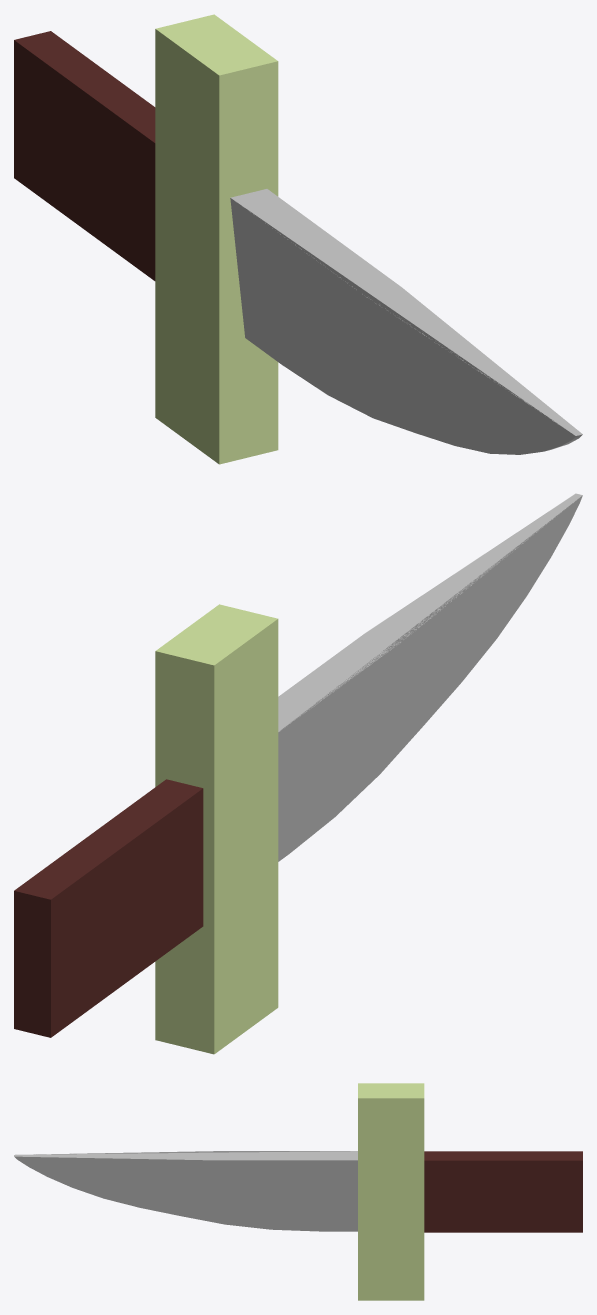
Rendered from Knife.fbx.
The picture shows the model from 3 angles, top to bottom: view 1: azimuth 30°, elevation 25°; view 2: azimuth 150°, elevation 25°; view 3: azimuth 270°, elevation 25°; orthographic projection. The views are drawn at different scales.
Visible parts, largest first — view 1: Cube; view 2: Cube; view 3: Cube.
Boxes of the visible parts, box(x1,y1,x2,y2) form: Cube: box(14, 14, 582, 464); Cube: box(14, 493, 582, 1054); Cube: box(14, 1083, 582, 1300).
Bounding box in the file's own units: 2.13 × 13.43 × 34.22.
